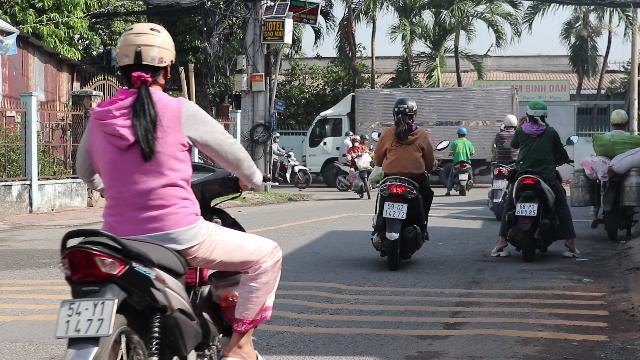helmet: (112, 24, 176, 88), (390, 97, 418, 125), (525, 98, 549, 122), (609, 109, 629, 129), (501, 114, 517, 128)
licenseplate: (55, 299, 115, 335), (383, 202, 407, 220), (516, 202, 536, 216), (492, 179, 506, 188)
motorcyclist: (46, 21, 288, 356), (496, 97, 576, 259), (366, 96, 436, 266), (586, 108, 640, 238), (484, 110, 520, 218)
